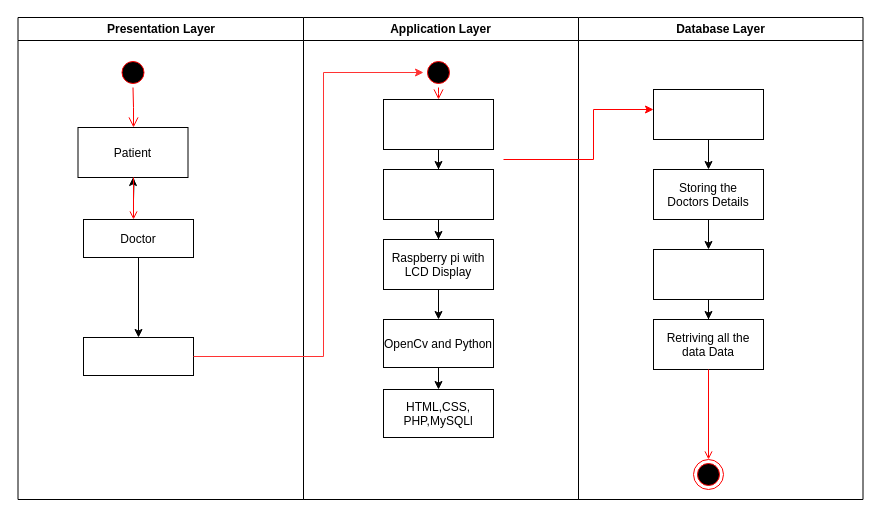
This 880x517 diagram has some shape labels left out. The shapes that lost their labels are listed below. From the top down, each one's centre as x and y in pixels, then its label:
At pixel 438 124: "clahe algorithm".
At pixel 708 114: "Storing The Images".
At pixel 438 194: "Camera Module".
At pixel 708 274: "Storing The Patients Details".
At pixel 138 356: "Admin".
